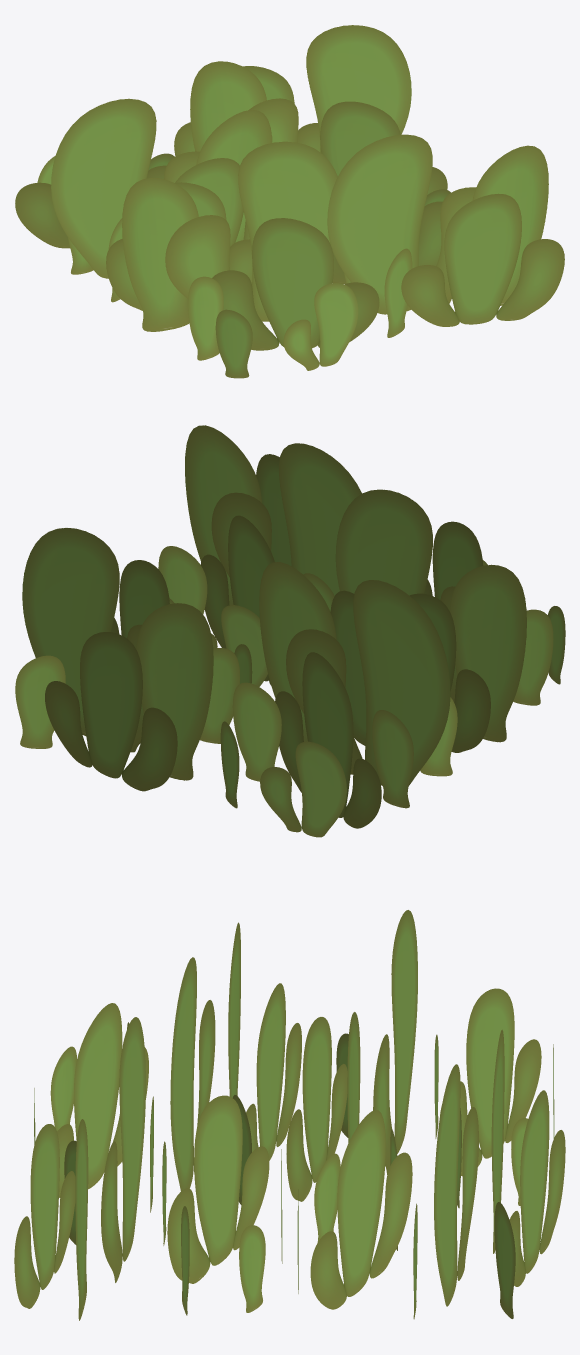
Rendered from mct_foliage_grass05.fbx.
3 views of the same model, one above another, from view 1: azimuth 30°, elevation 25°; view 2: azimuth 150°, elevation 25°; view 3: azimuth 270°, elevation 25° (orthographic). The views are drawn at different scales.
Visible parts, largest first — view 1: mct_foliage_grass_05; view 2: mct_foliage_grass_05; view 3: mct_foliage_grass_05.
Boxes of the visible parts, box(x1,y1,x2,y2) form: mct_foliage_grass_05: box(15, 25, 564, 378); mct_foliage_grass_05: box(15, 425, 565, 837); mct_foliage_grass_05: box(14, 910, 565, 1320).
Size of the model in its own units: 200 by 93.53 by 202.
